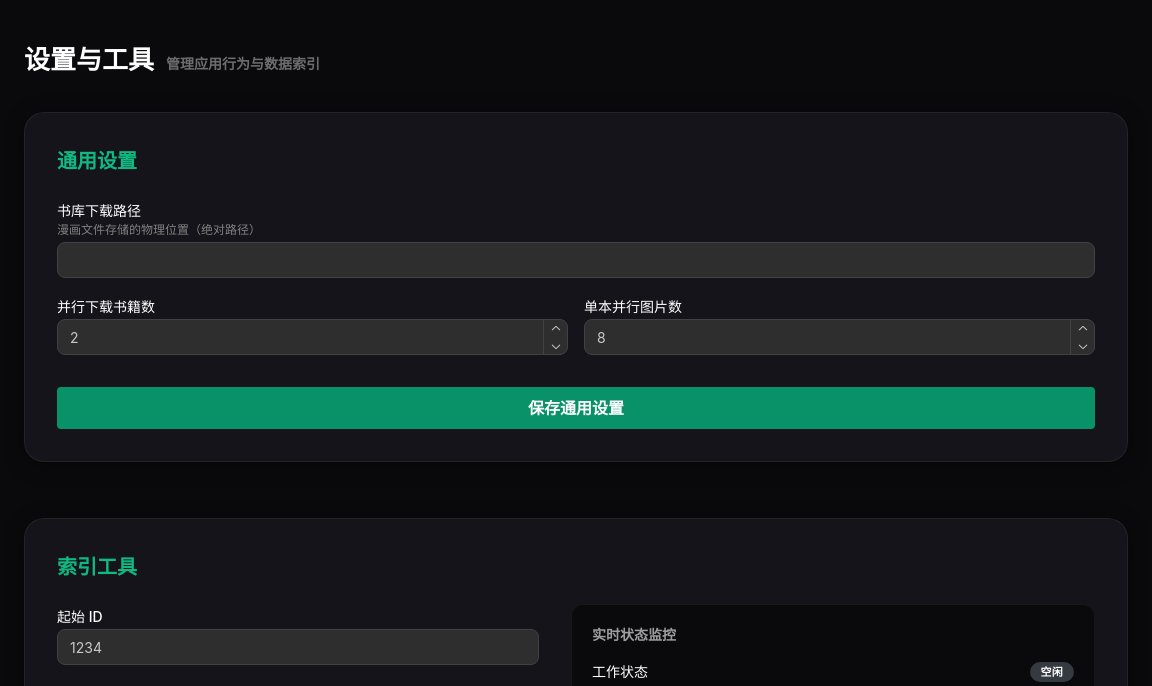
Scenario: SettingsPage › updates concurrency and reacts to crawler progress
Expected: the field showing "2" is shown, [57,319,568,355]
Replace the text in the field labelled "单本并行图片数" with "12": (840, 337) [584,319,1095,355]
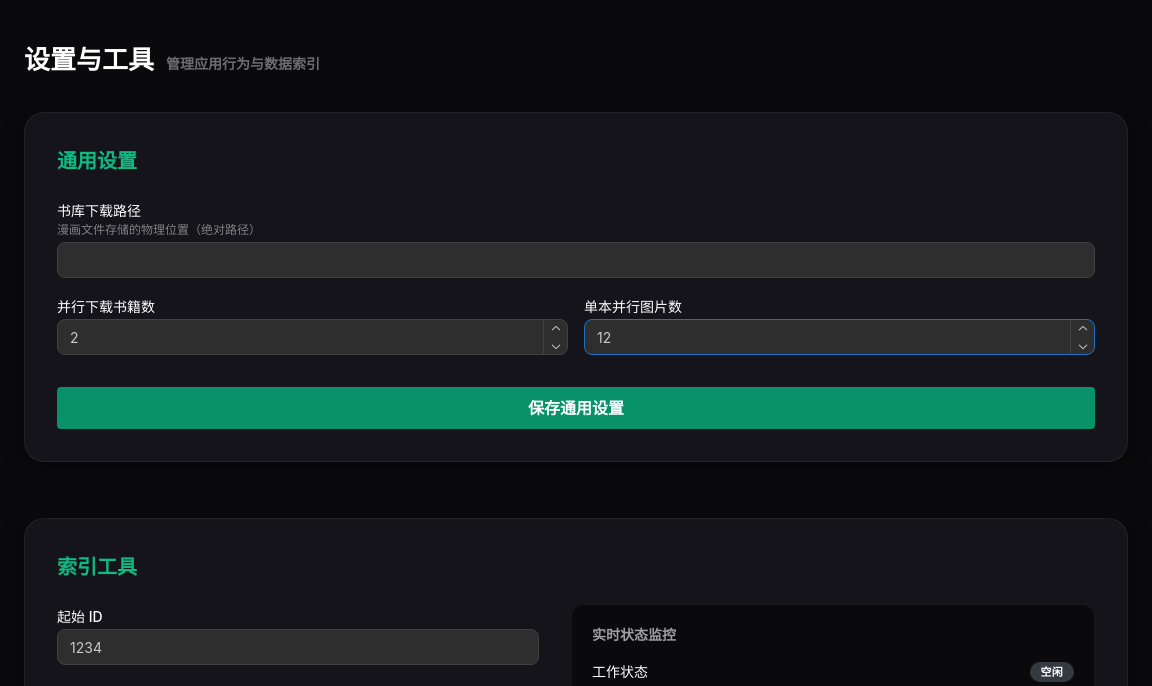
Replace the text in the field labelled "并行下载书籍数" with "4": (312, 337) [57,319,568,355]
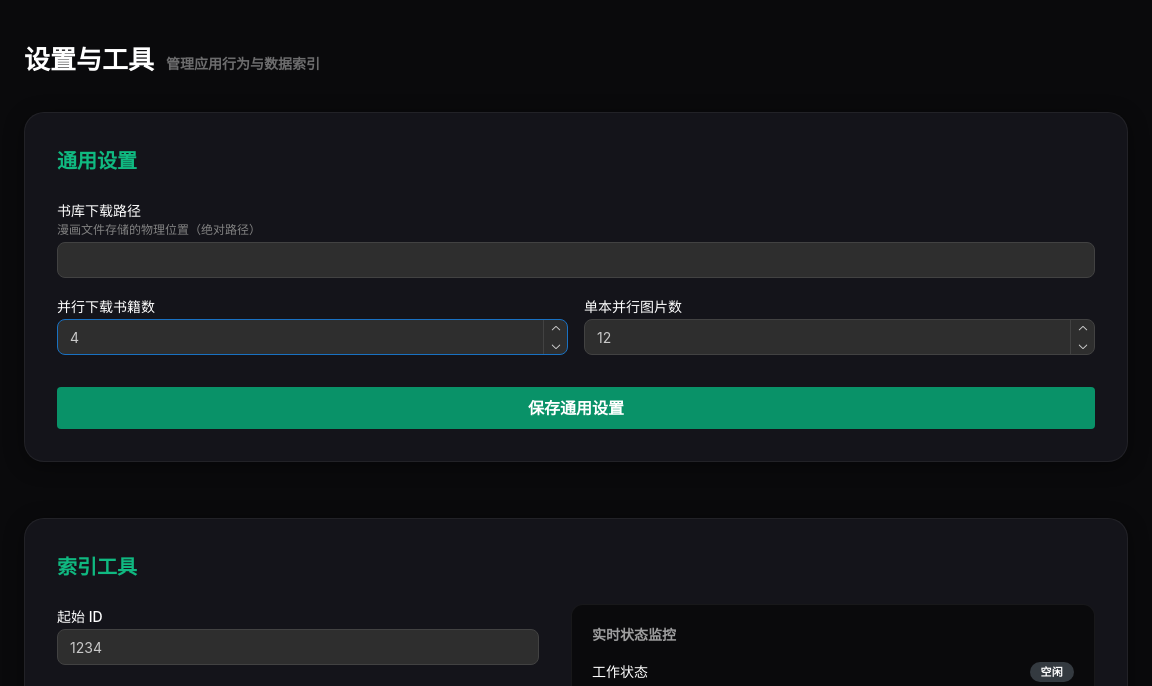
Click the button "保存通用设置": (576, 408) [57,387,1095,429]
(page scrolled)
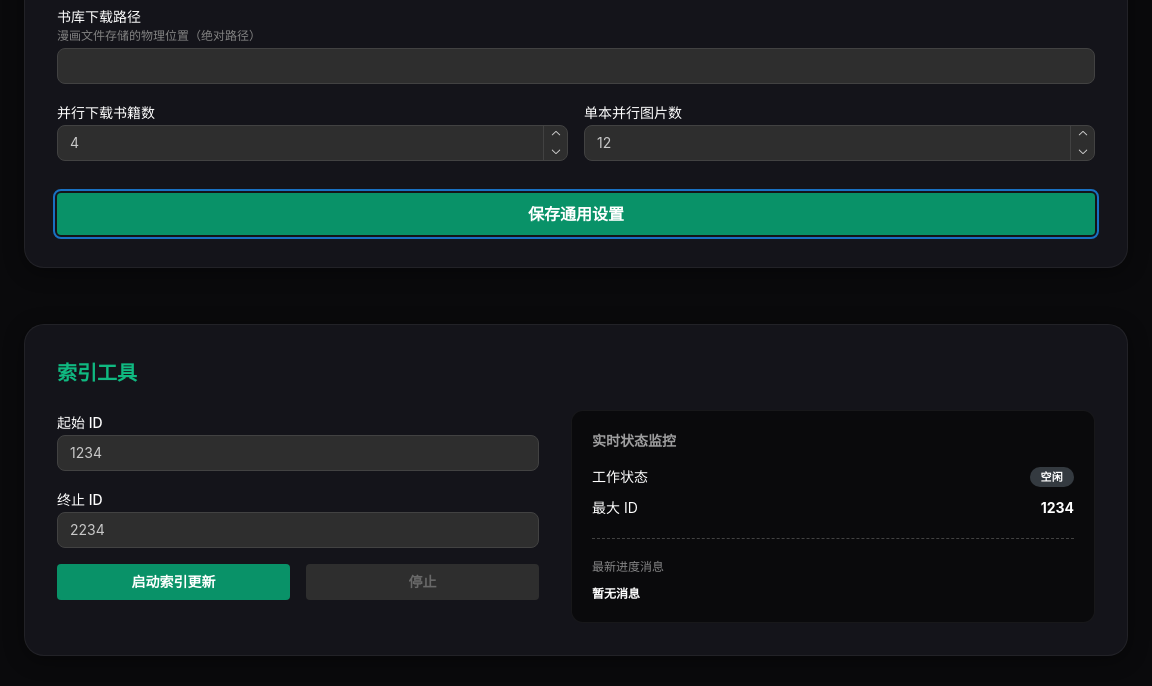
Replace the text in the field labelled "起始 ID" with "1200": (298, 453) [57,435,539,471]
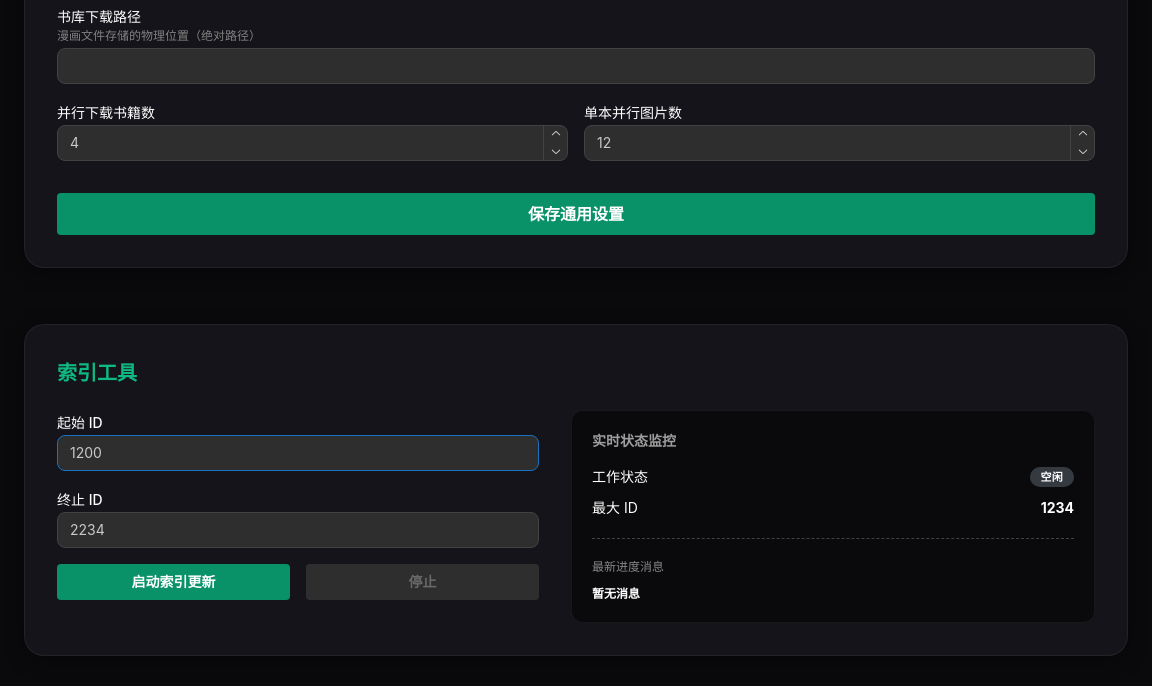
Click the button "启动索引更新": (174, 582) [57,564,290,600]
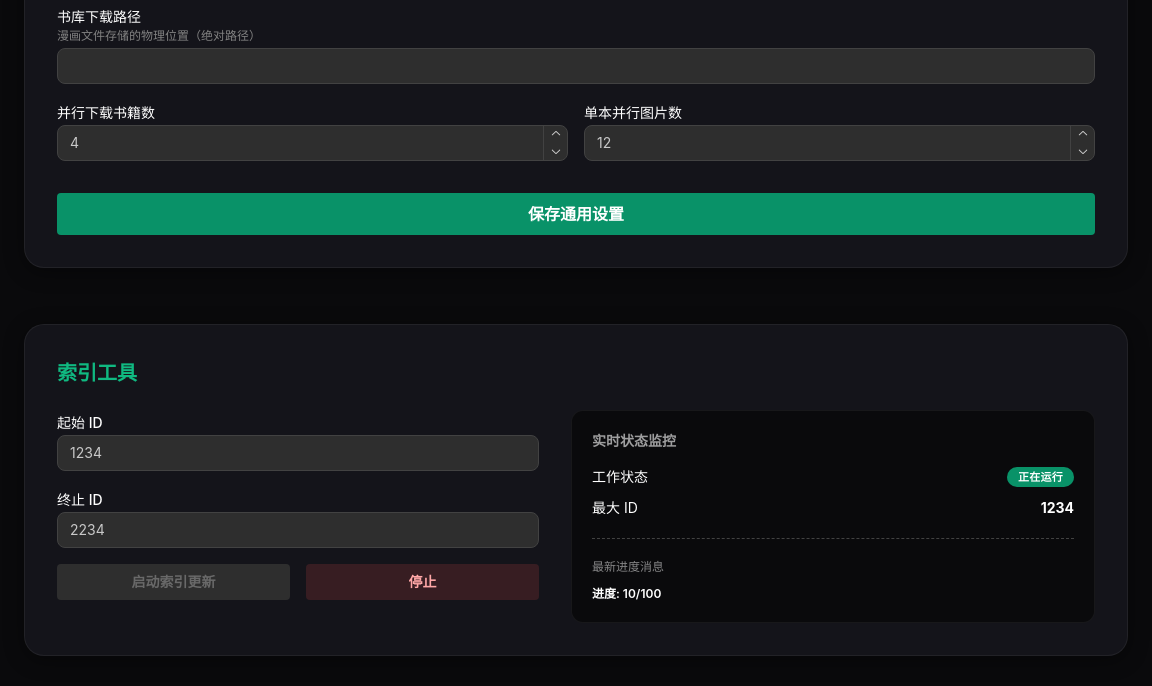
Result: the text "进度: 10/100" is shown at [592,586,661,601]
